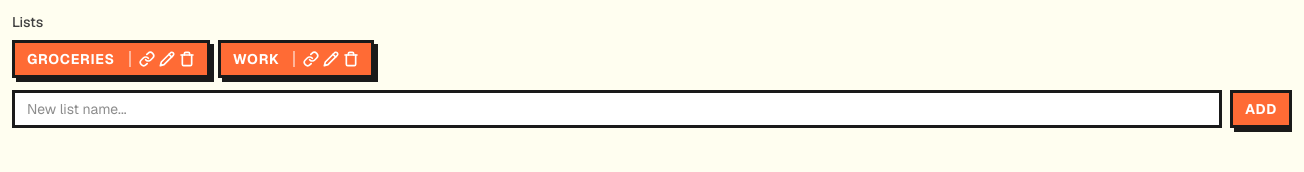
ListSelector › renames a list
Expected: the text "Groceries" is shown, x1=27 y1=49 x2=115 y2=69
Click the button named "Rename Groceries". click: (167, 59)
box: x1=159 y1=51 x2=175 y2=67
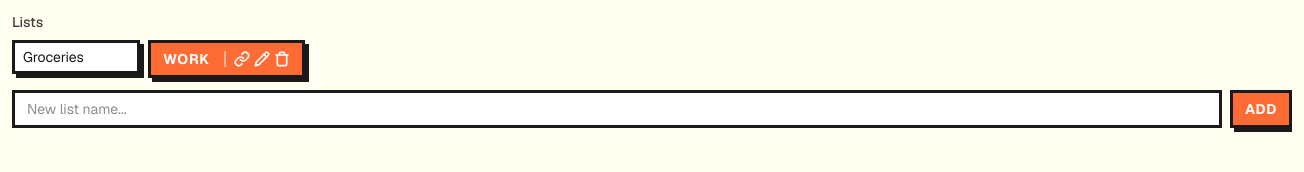
Replace the text in the field showing "Groceries" with "Food". click: (76, 57)
box: x1=12 y1=40 x2=140 y2=74
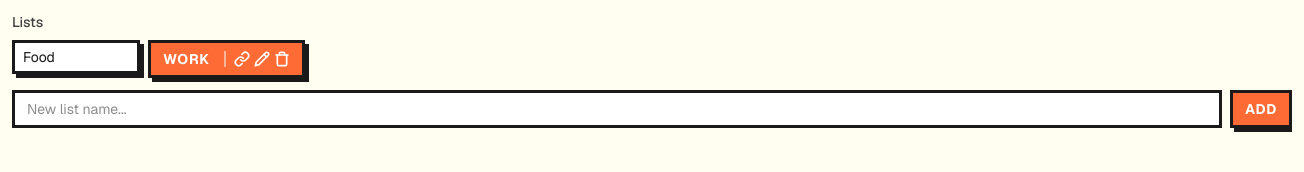
Press Enter
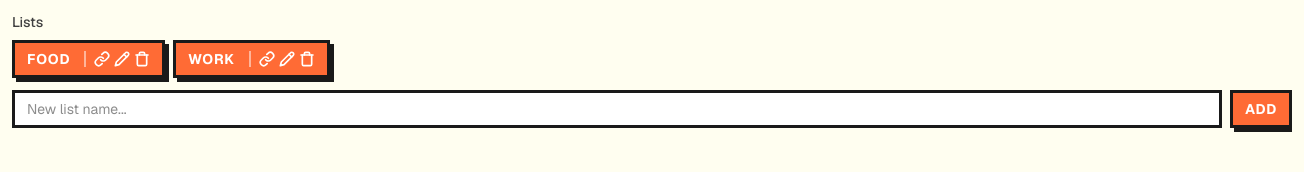
Expected: the button "Groceries" is not shown
Now the text "Food" is shown, box x1=27 y1=49 x2=70 y2=69
